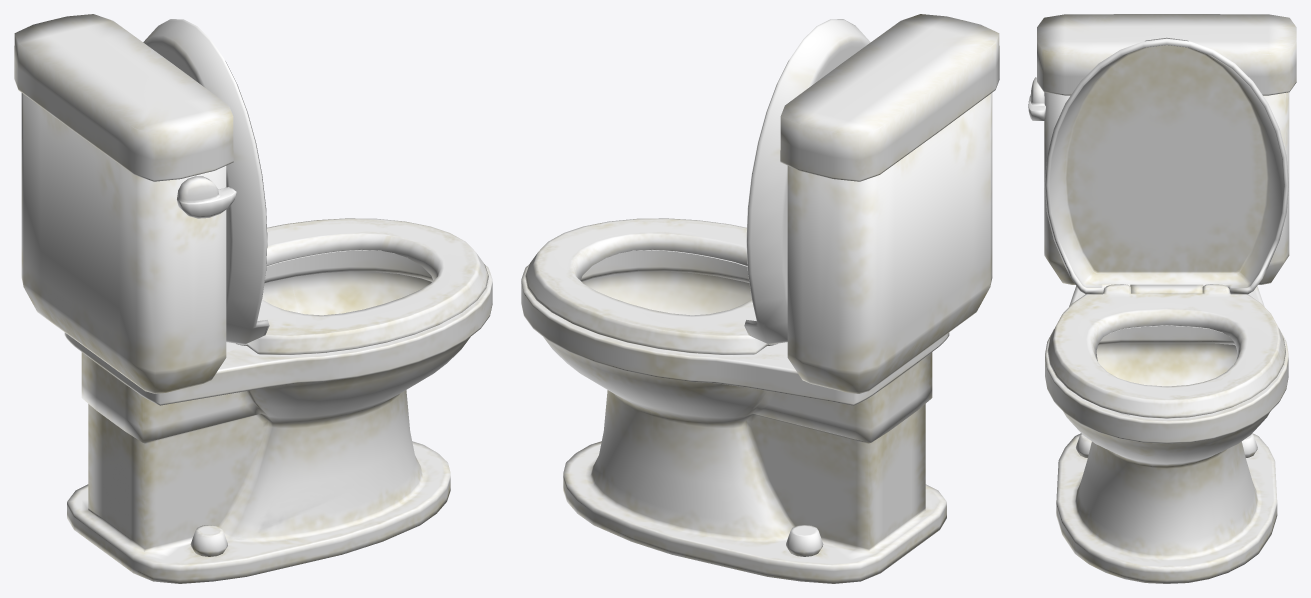
File: toilet.glb
3 views of the same model, side by side, from view 1: azimuth 30°, elevation 25°; view 2: azimuth 150°, elevation 25°; view 3: azimuth 270°, elevation 25° (orthographic). The views are drawn at different scales.
Visible parts, largest first — view 1: Daska; view 2: Daska; view 3: Daska.
Part boxes in pixels (x1,y1,x2,y2): Daska: [14, 14, 492, 583]; Daska: [521, 14, 999, 583]; Daska: [1028, 14, 1296, 583].
Bounding box in the file's own units: 0.8846 × 1.06 × 0.5821.
Materials: 1 (1 with a texture image).
